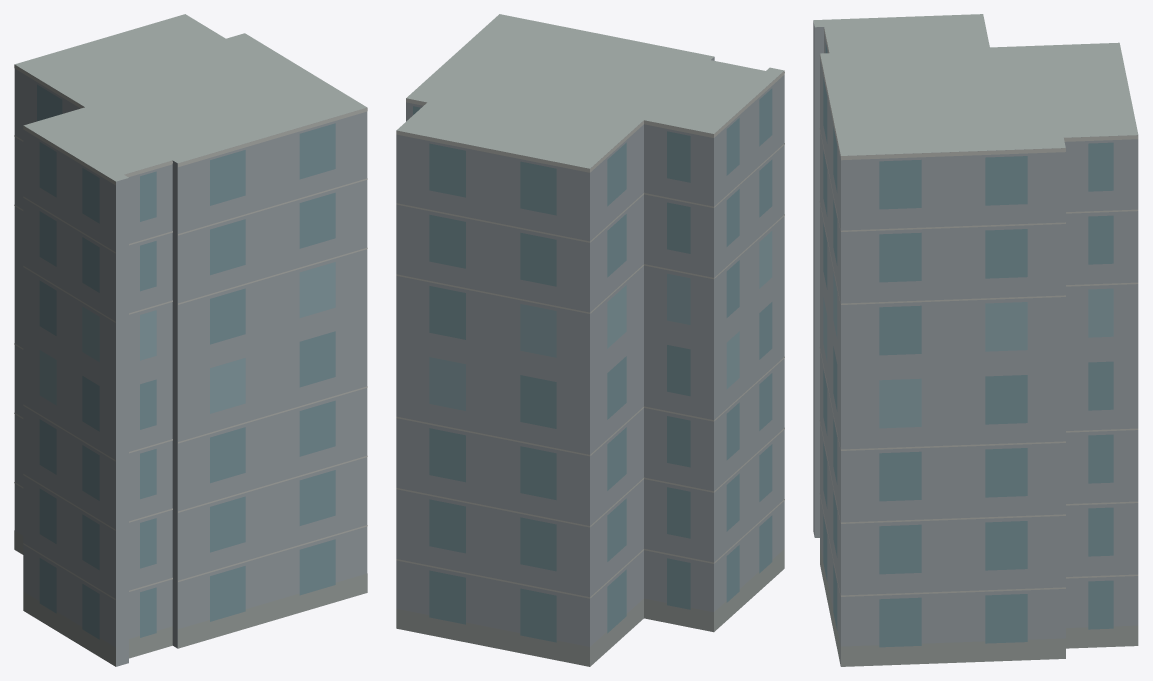
File: survey-upis-32744526.glb
3 renders of one model, left to right at view 1: azimuth 30°, elevation 25°; view 2: azimuth 150°, elevation 25°; view 3: azimuth 270°, elevation 25°, orthographic. The views are drawn at different scales.
Visible parts, largest first — view 1: survey-upis-32744526.tmp; view 2: survey-upis-32744526.tmp; view 3: survey-upis-32744526.tmp.
Part boxes in pixels (<box>): survey-upis-32744526.tmp: <box>14,14,367,666</box>; survey-upis-32744526.tmp: <box>396,14,784,666</box>; survey-upis-32744526.tmp: <box>813,14,1138,666</box>.
Bounding box in the file's own units: 17.87 × 29.93 × 17.28.
